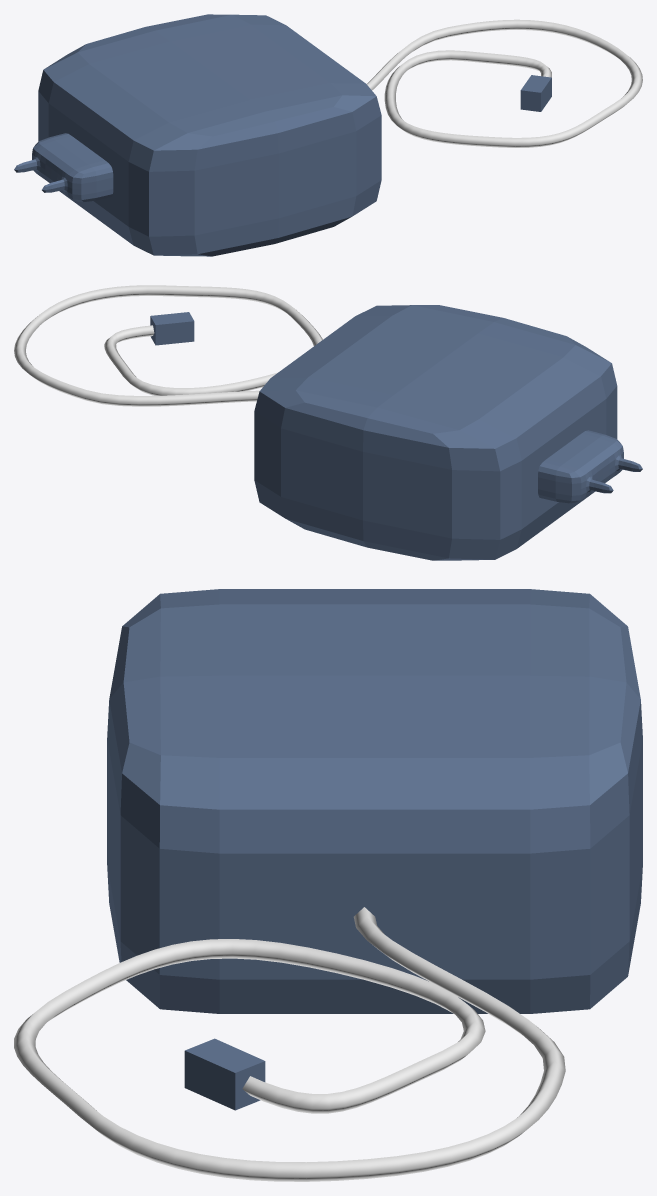
File: Charger.fbx
3 renders of one model, top to bottom at view 1: azimuth 30°, elevation 25°; view 2: azimuth 150°, elevation 25°; view 3: azimuth 270°, elevation 25°, orthographic. The views are drawn at different scales.
Visible parts, largest first — view 1: Charger; view 2: Charger; view 3: Charger.
Part boxes in pixels (x1=…): Charger: x1=14, y1=14, x2=642, y2=256; Charger: x1=14, y1=285, x2=642, y2=560; Charger: x1=14, y1=589, x2=642, y2=1181.
Bounding box in the file's own units: 476 × 102 × 231.
